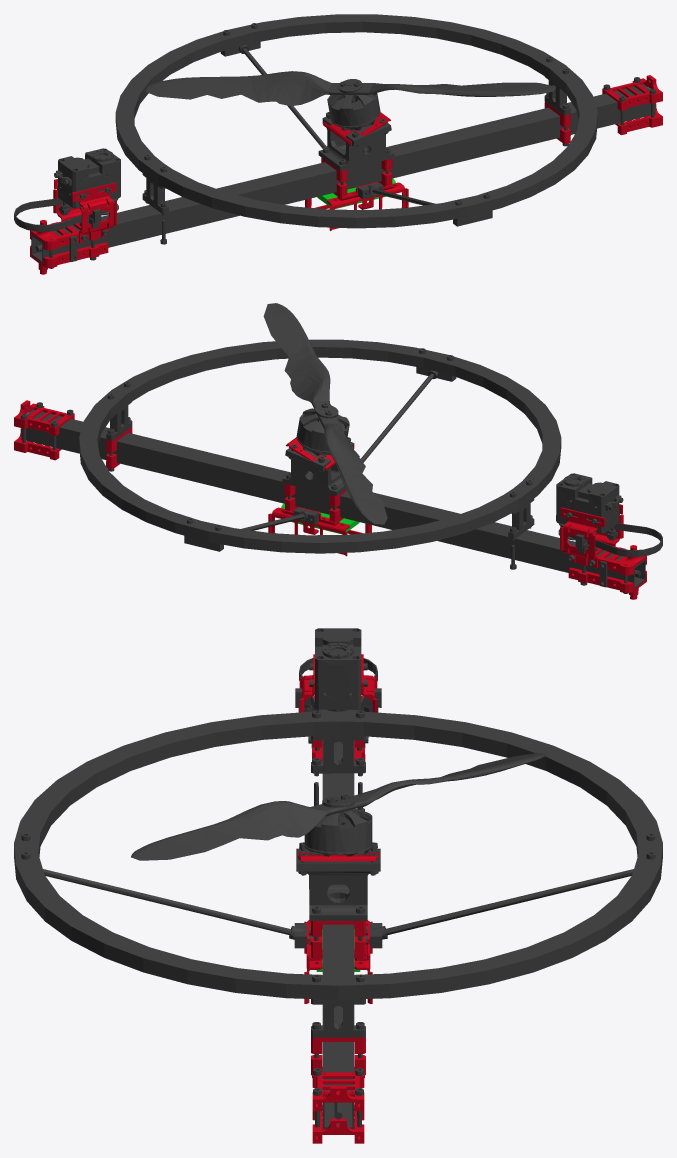
The model's file is tilt_10deg_link4.dae.
3 views of the same model, one above another, from view 1: azimuth 30°, elevation 25°; view 2: azimuth 150°, elevation 25°; view 3: azimuth 270°, elevation 25° (orthographic). The views are drawn at different scales.
Parts seen in each view (by area): view 1: tilt_10deg_link4_black_part, tilt_link4_red_part; view 2: tilt_10deg_link4_black_part, tilt_link4_red_part; view 3: tilt_10deg_link4_black_part, tilt_link4_red_part.
Part boxes in pixels (box(x1,y1,x2,y2)): tilt_10deg_link4_black_part: box(14, 14, 656, 268); tilt_link4_red_part: box(30, 75, 662, 274); tilt_10deg_link4_black_part: box(21, 303, 662, 593); tilt_link4_red_part: box(14, 400, 646, 599); tilt_10deg_link4_black_part: box(14, 628, 662, 1129); tilt_link4_red_part: box(298, 654, 378, 1143).
Size of the model in its own units: 0.6083 by 0.3997 by 0.1362.
